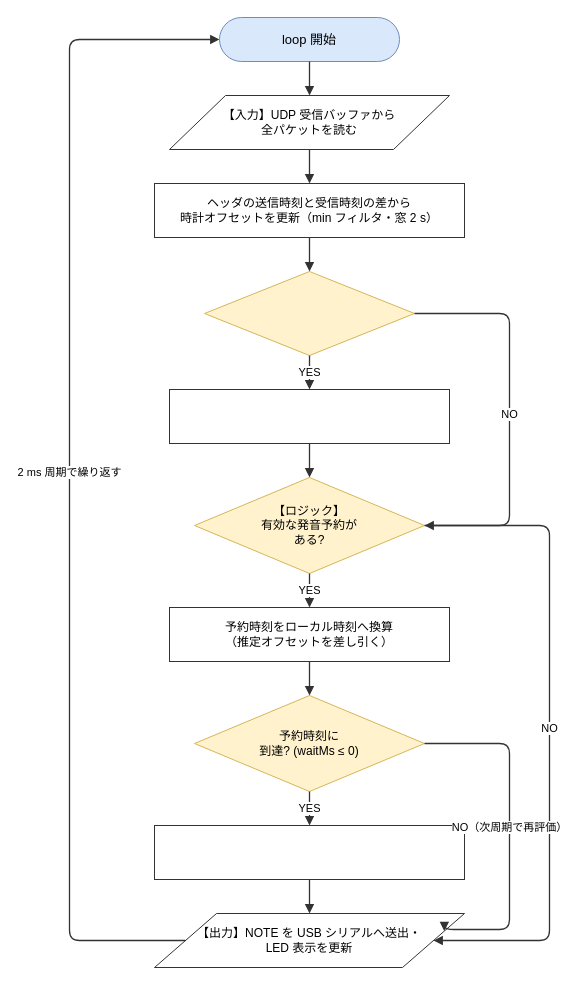
Some shapes in this 584 by 985 pixel diagram are drawn without their labels. The shapes that lost their labels are listed below. From the top down, each one's centre as x and y in pixels, then its label:
At pixel 309 313: "BEAT を 受信した?".
At pixel 309 416: "発音予約に登録 （同じ拍番号の重複受信は破棄）".
At pixel 309 852: "指揮者の拍番号から楽譜位置を算出し NOTE（音高・強弱・音長）を生成".
